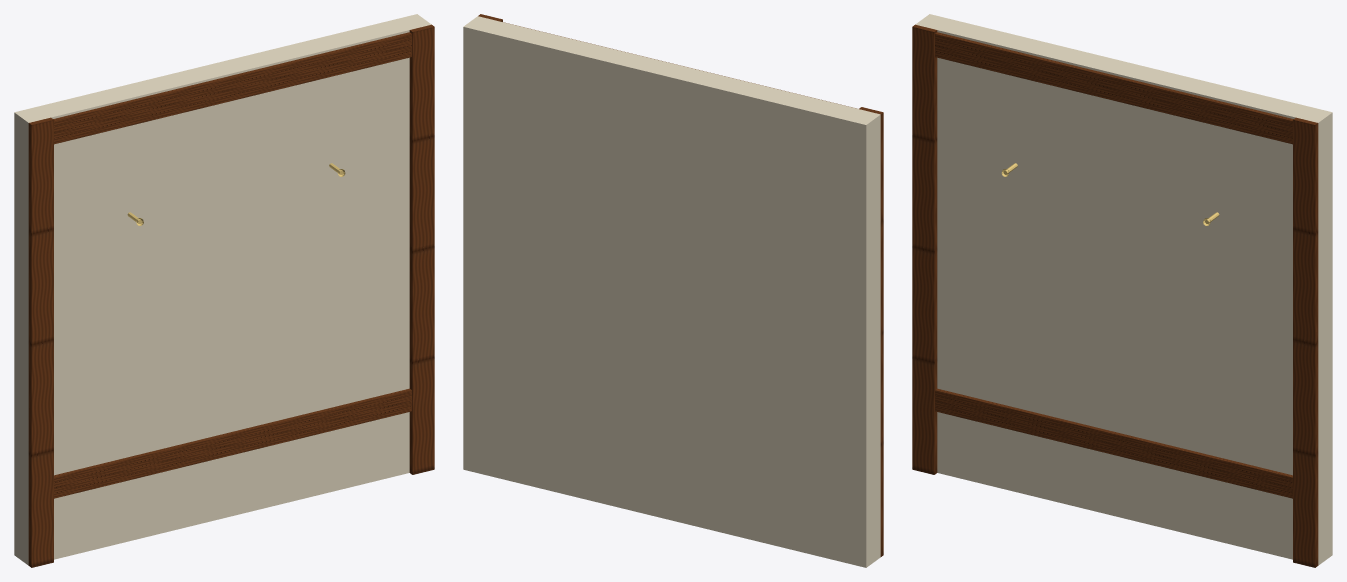
Rendered from legendary-warriors-kit-gallery-wall-59530d3d__39224.glb.
3 views of the same model, side by side, from view 1: azimuth 30°, elevation 25°; view 2: azimuth 150°, elevation 25°; view 3: azimuth 330°, elevation 25° (orthographic).
Parts seen in each view (by area): view 1: gallery-wall; view 2: gallery-wall; view 3: gallery-wall.
Boxes of the visible parts, left/top/right/bottom form: gallery-wall: left=14, top=14, right=434, bottom=567; gallery-wall: left=463, top=14, right=883, bottom=567; gallery-wall: left=912, top=14, right=1332, bottom=567.
Size of the model in its own units: 4 by 4.2 by 0.4651.
Materials: 3 (1 with a texture image).
